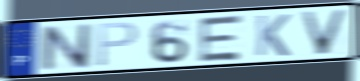6: (149, 18, 190, 64)
E: (195, 13, 246, 64)
K: (253, 13, 292, 58)
N: (39, 22, 93, 72)
P: (95, 20, 141, 69)
V: (298, 8, 351, 57)
